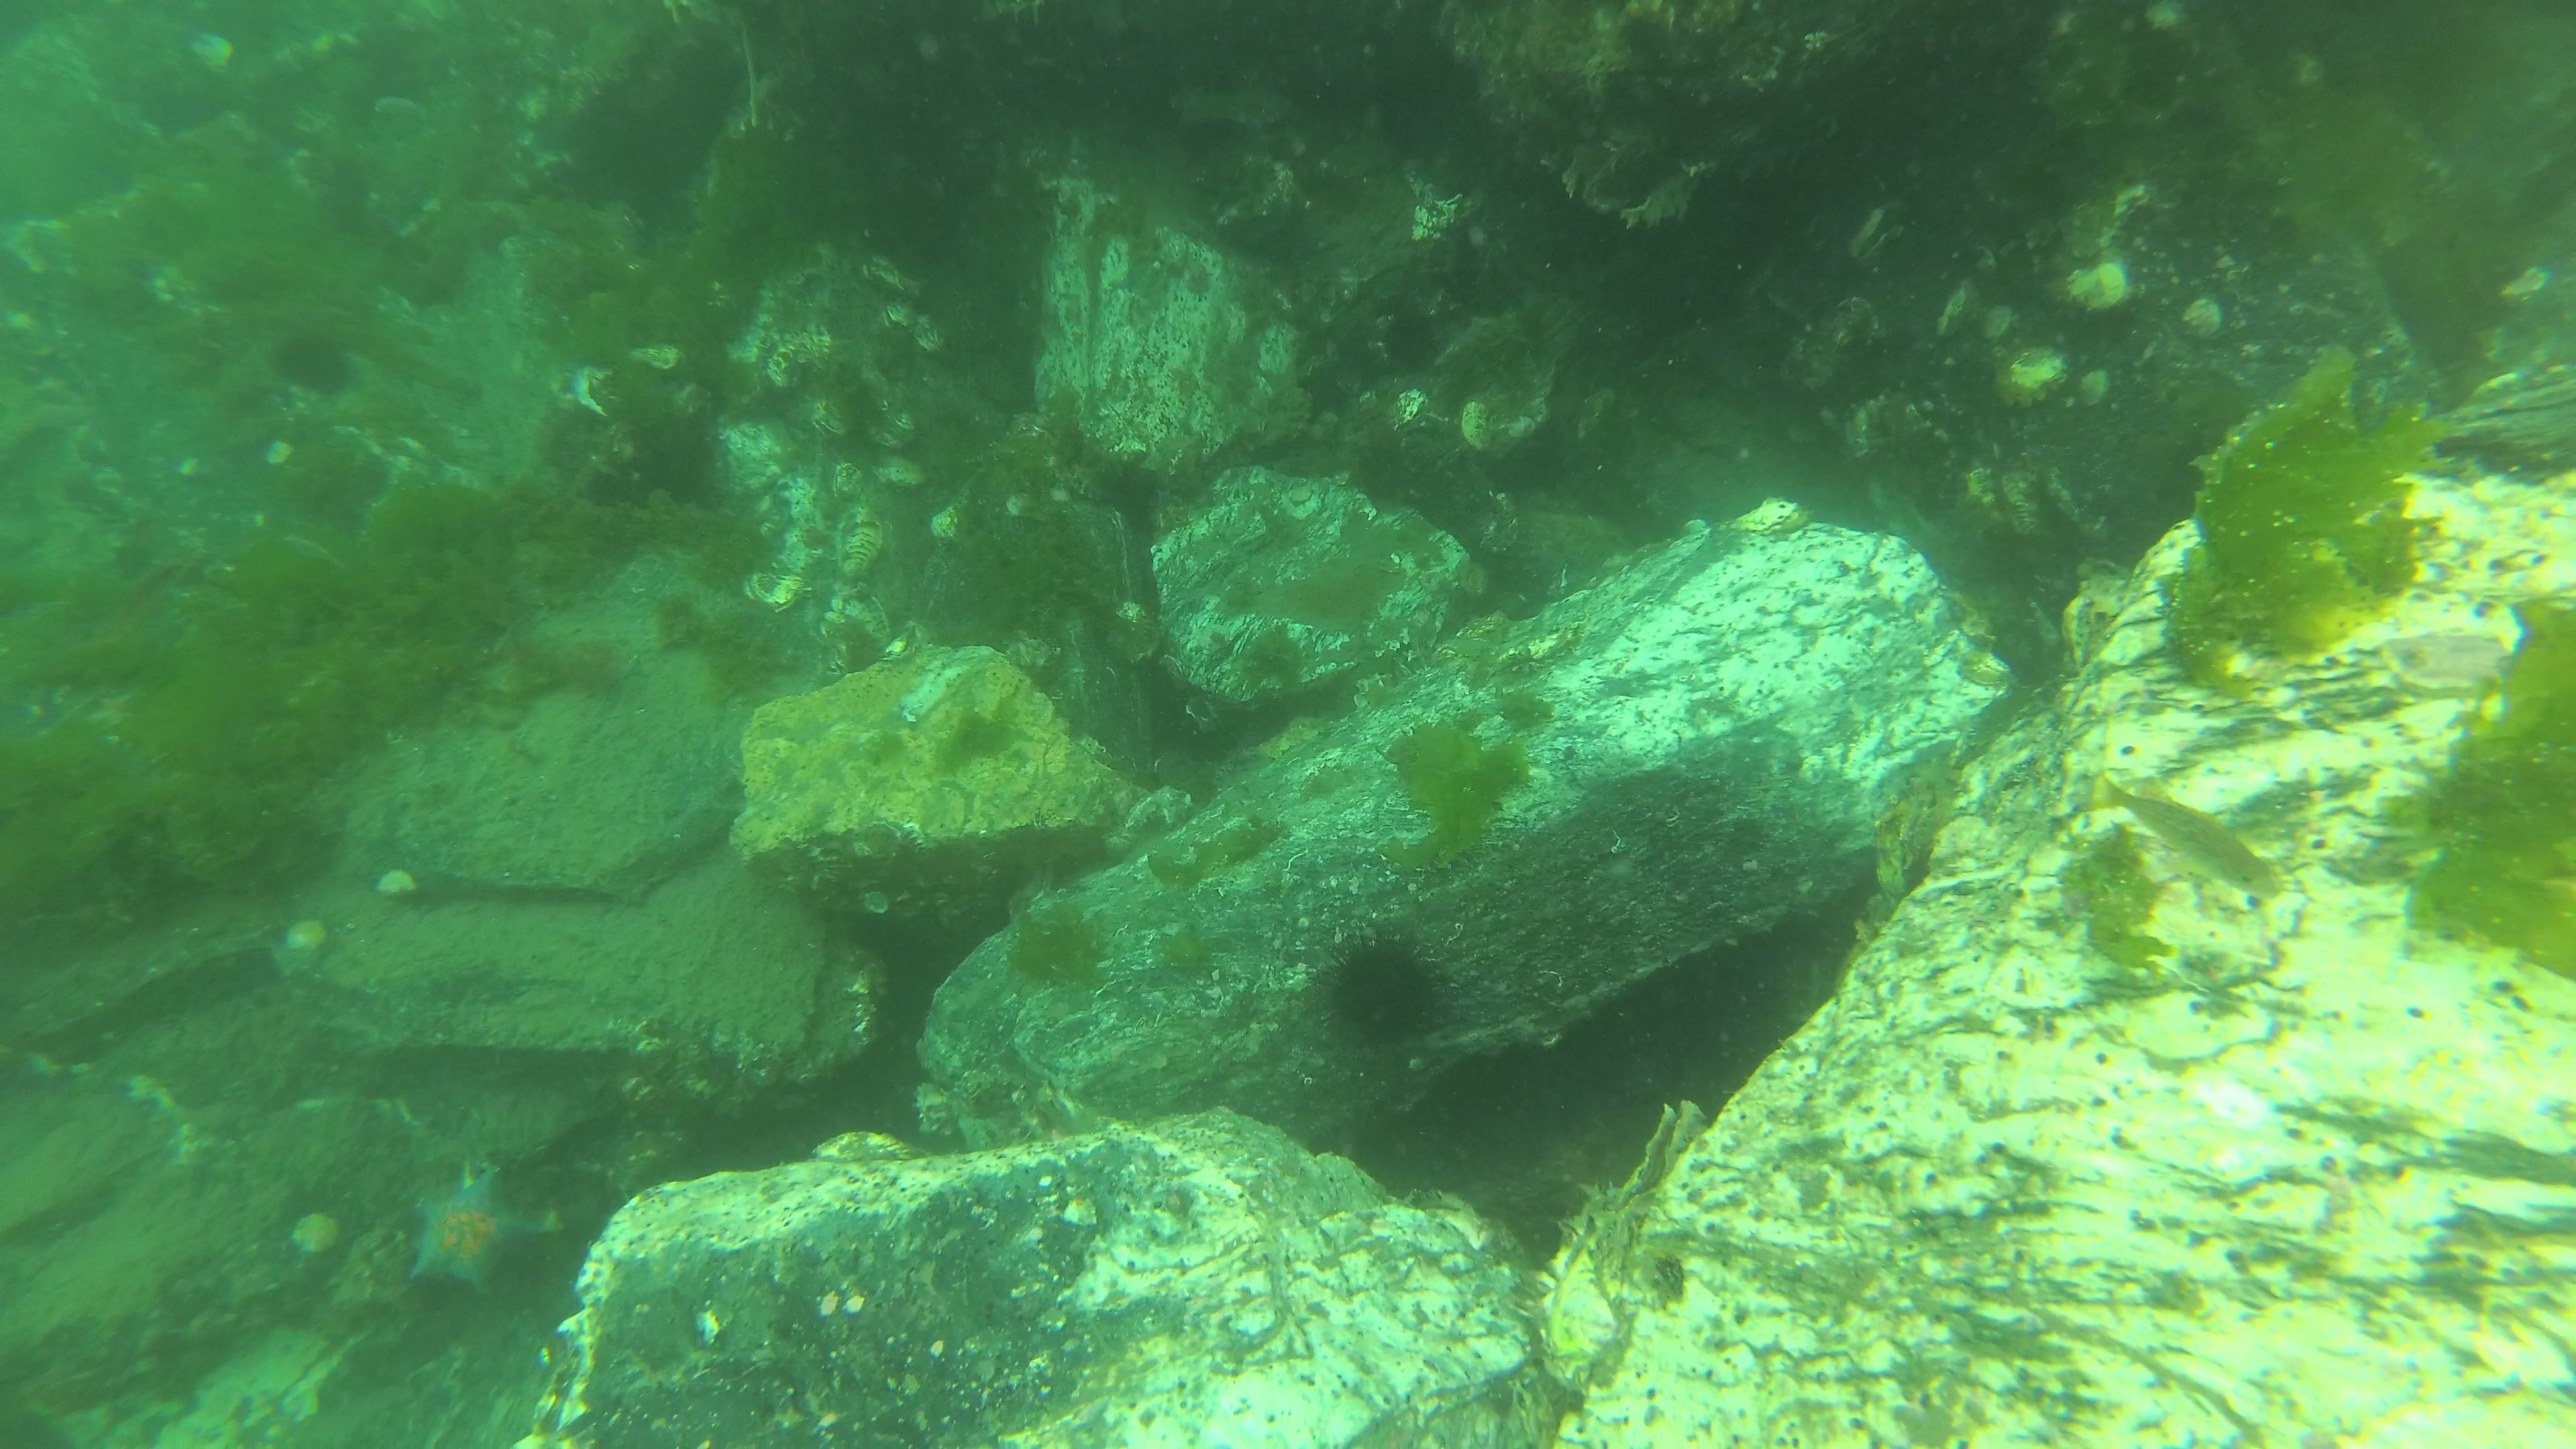echinus: (1318, 924, 1454, 1060), (269, 329, 357, 403)
starfish: (409, 1162, 548, 1299)
